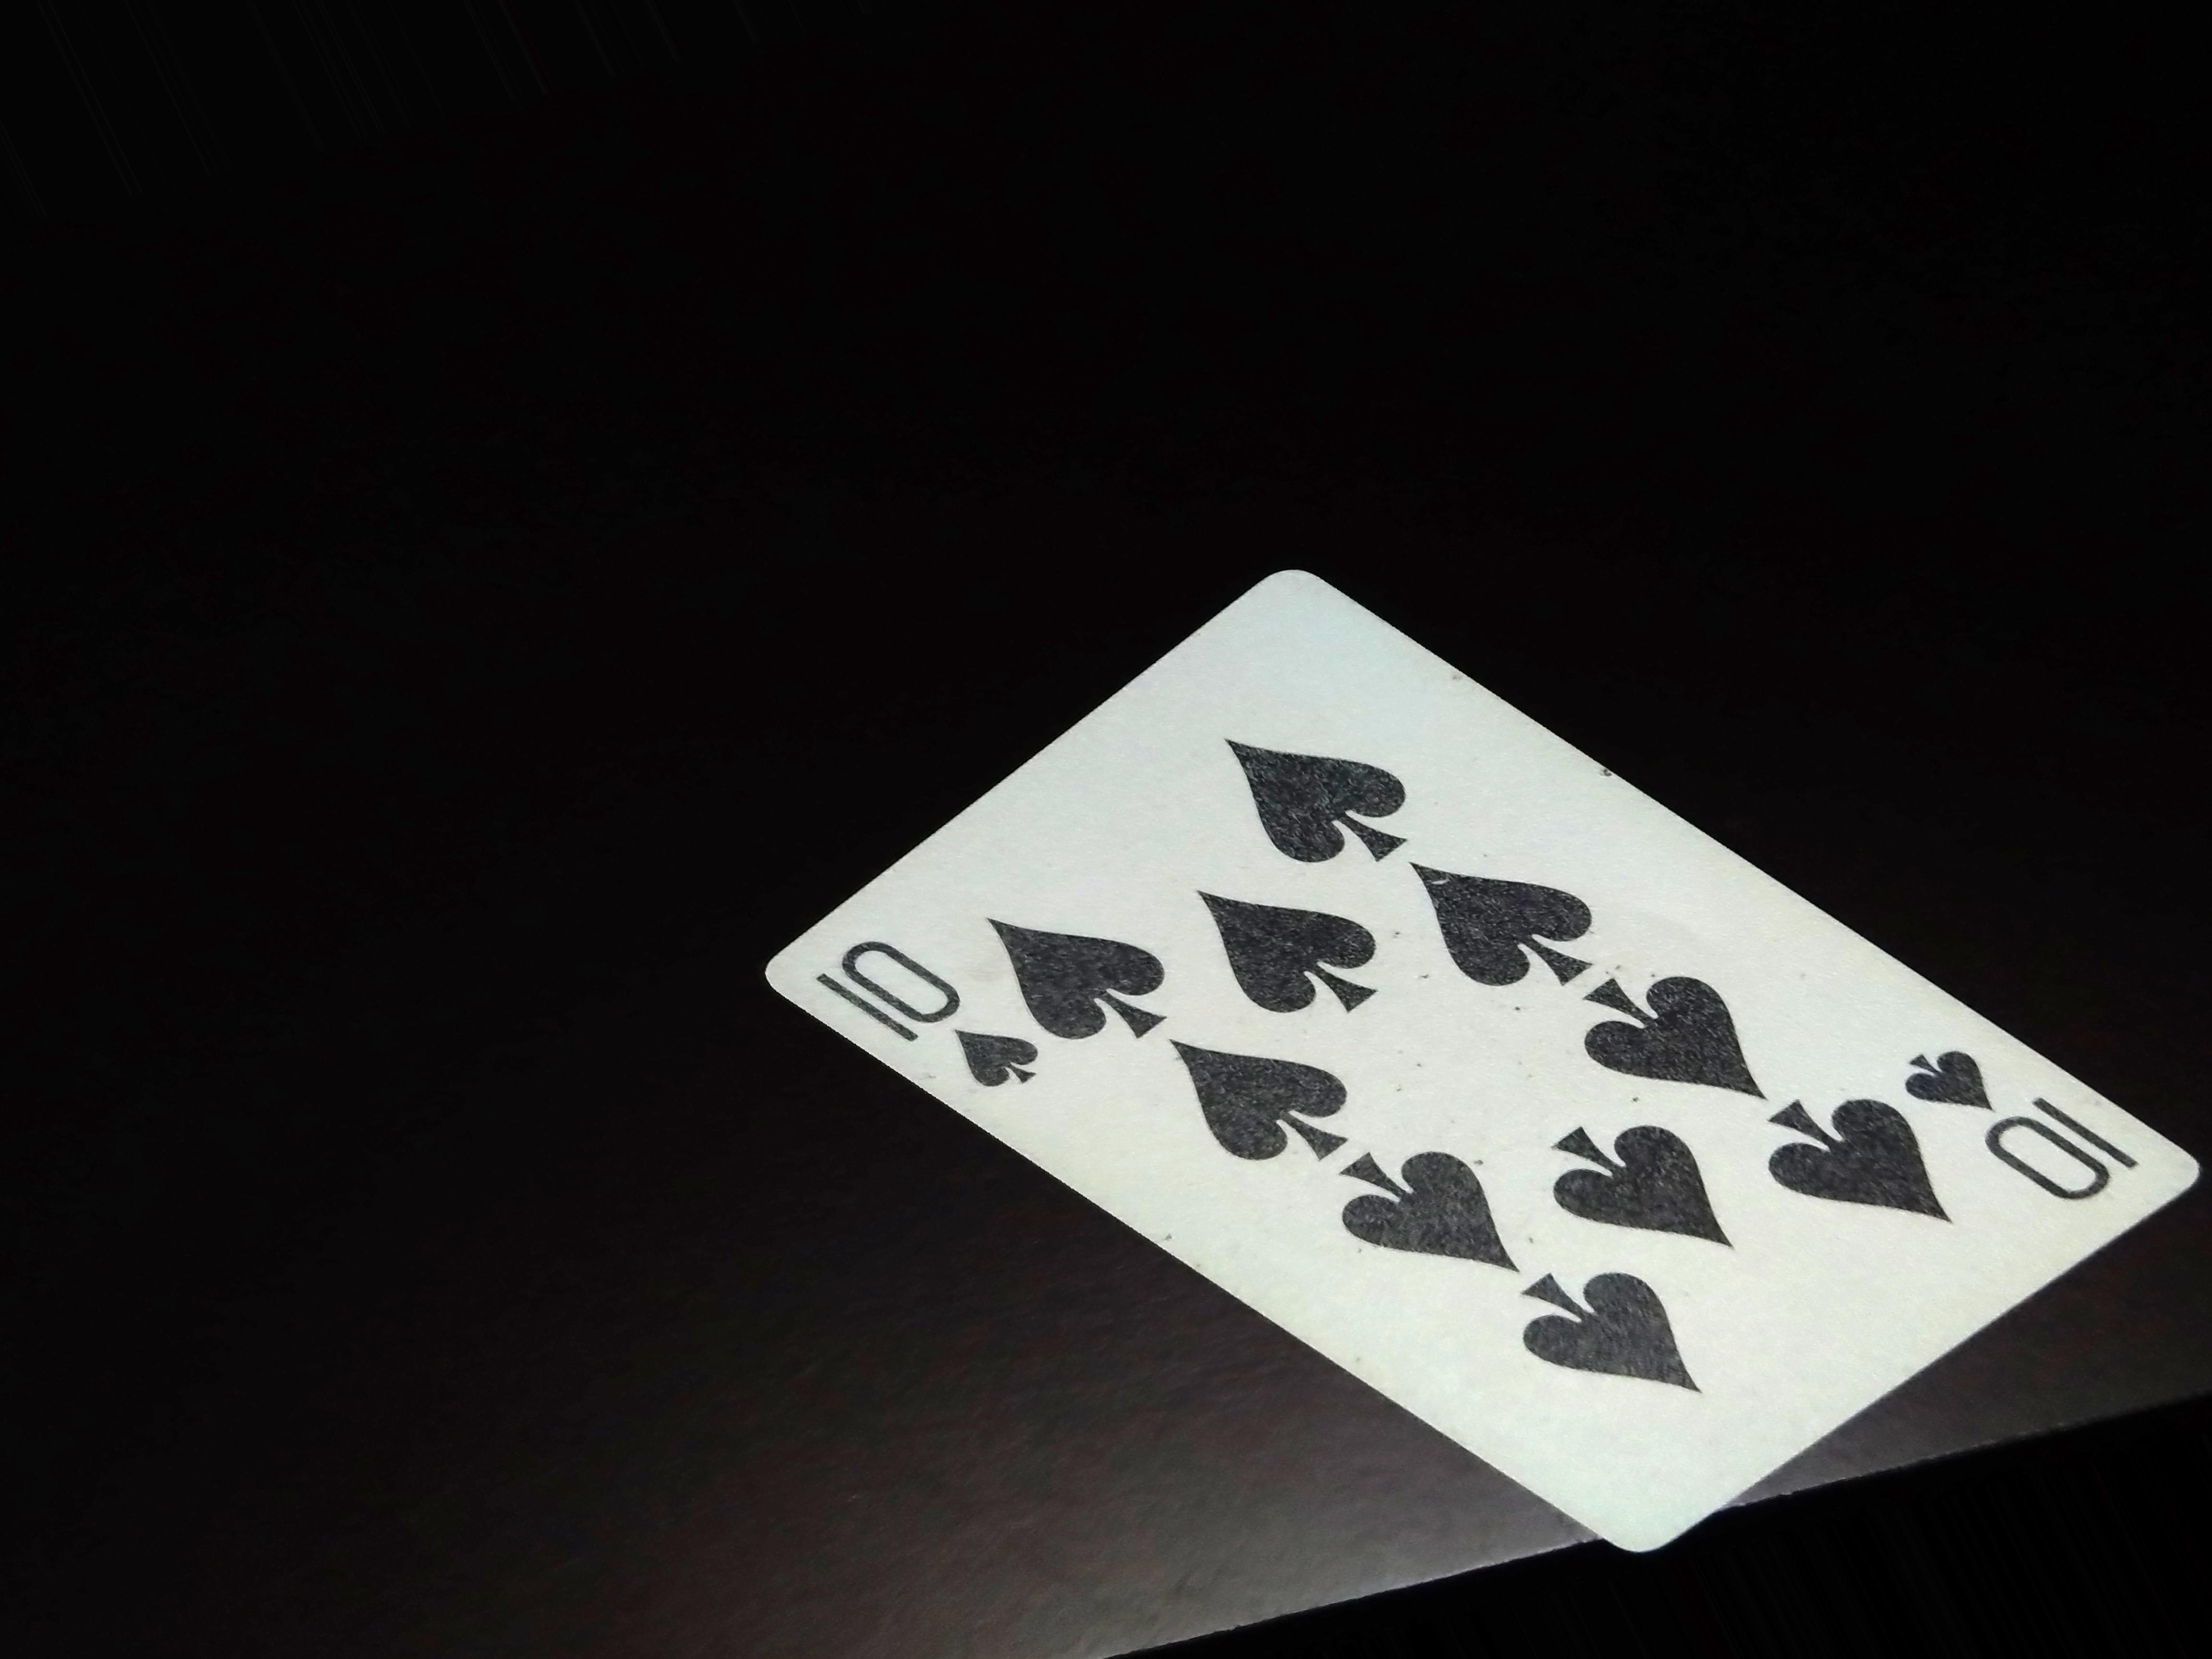10S: (808, 938, 1054, 1094)
